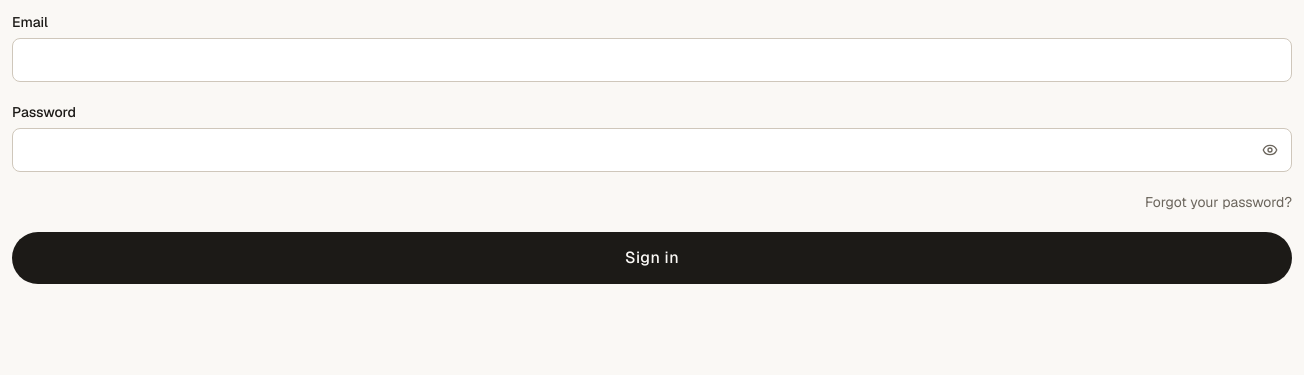
LoginForm › submits the email, password and return path
The width and height of the screenshot is (1304, 375).
Type "ava@example.com" into the field labelled "Email" at x=652, y=60, box [12,38,1292,82]
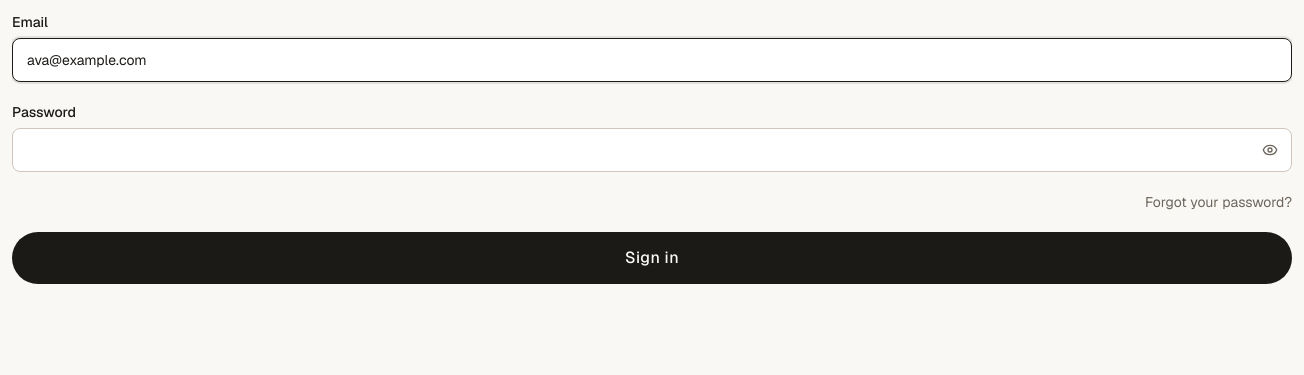
Type "Sunlit-Oak42" into the password field labelled "Password" at x=652, y=150, box [12,128,1292,172]
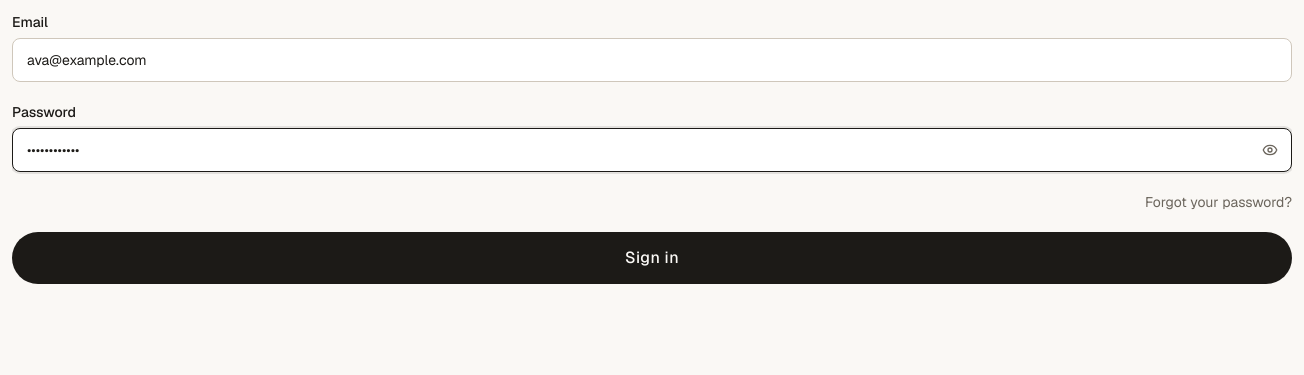
Click the button "Sign in" at x=652, y=258, box [12,232,1292,284]
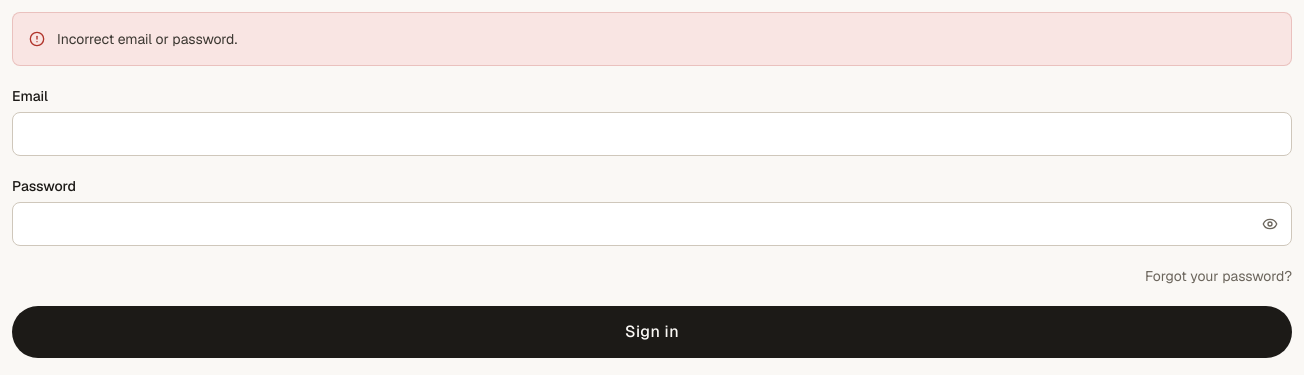
Result: the message reads "Incorrect email or password." at [57,30,237,48]
